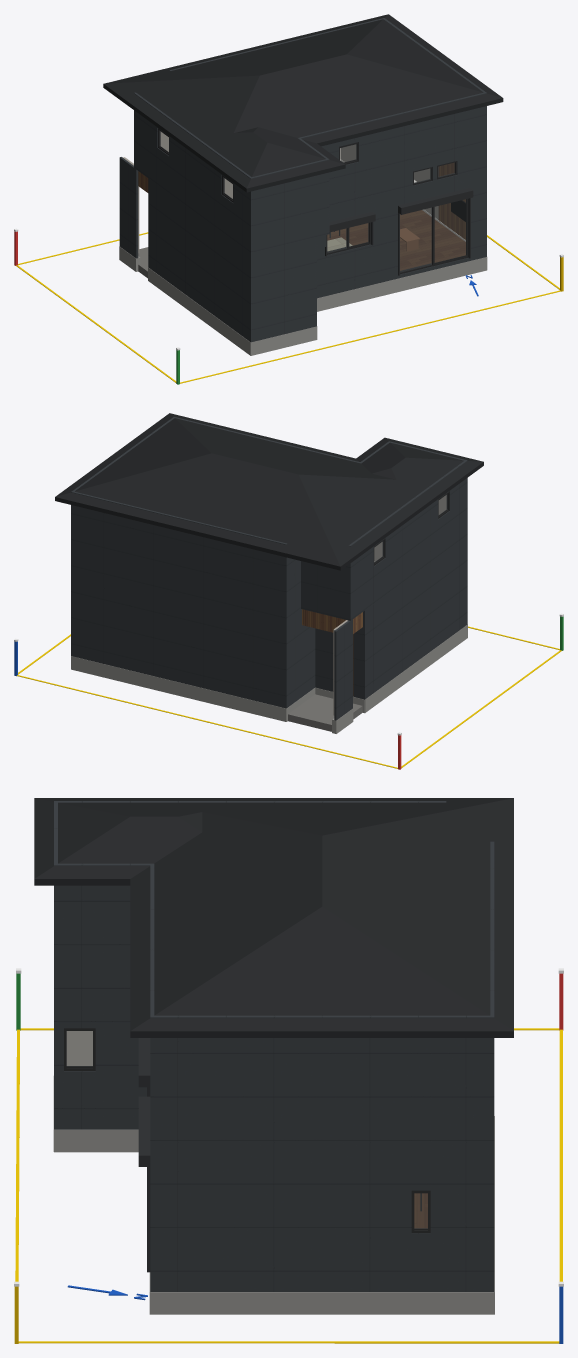
Rendered from A_22_half.glb.
3 renders of one model, top to bottom at view 1: azimuth 30°, elevation 25°; view 2: azimuth 150°, elevation 25°; view 3: azimuth 270°, elevation 25°, orthographic. The views are drawn at different scales.
Visible parts, largest first — view 1: siding, roof, found, glass, floor, shutter, frame, lotline, wall, accent; view 2: siding, roof, found, lotline, tile, woodceil, wall; view 3: siding, roof, found, lotline, shutter, glass, wall, frame.
Part boxes in pixels (bbox=[...]): siding: bbox=[119, 18, 486, 342]; roof: bbox=[103, 14, 503, 192]; found: bbox=[119, 246, 487, 355]; glass: bbox=[160, 132, 465, 271]; floor: bbox=[327, 210, 465, 270]; shutter: bbox=[325, 188, 473, 275]; frame: bbox=[158, 128, 468, 274]; lotline: bbox=[16, 232, 560, 383]; wall: bbox=[123, 131, 438, 253]; accent: bbox=[438, 162, 465, 239]; siding: bbox=[71, 417, 467, 720]; roof: bbox=[55, 413, 483, 570]; found: bbox=[71, 624, 467, 733]; lotline: bbox=[17, 626, 561, 768]; tile: bbox=[288, 694, 362, 731]; woodceil: bbox=[302, 609, 362, 633]; wall: bbox=[333, 495, 446, 715]; siding: bbox=[54, 801, 494, 1291]; roof: bbox=[34, 798, 513, 1037]; found: bbox=[53, 1076, 494, 1314]; lotline: bbox=[15, 1028, 562, 1343]; shutter: bbox=[138, 1038, 150, 1272]; glass: bbox=[67, 1031, 427, 1227]; wall: bbox=[66, 1031, 92, 1065]; frame: bbox=[64, 1028, 430, 1233].
Bounding box in the file's own units: 14.14 × 7.01 × 10.42.
Materials: 31 (6 with a texture image).
